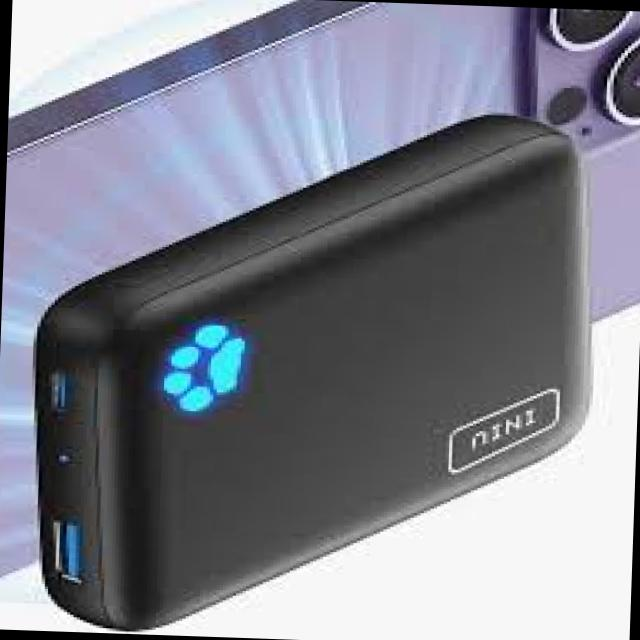portable-charger: (12, 101, 598, 640)
